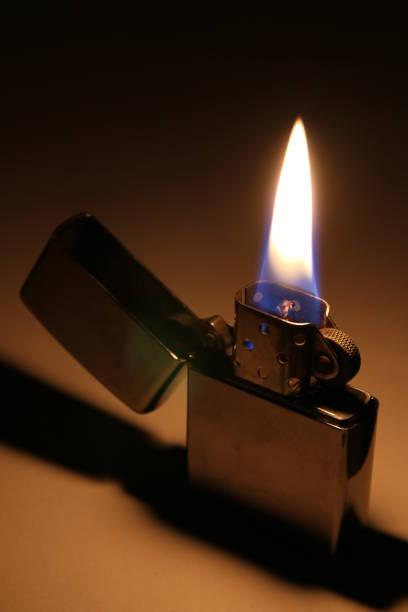Fire: (249, 117, 331, 317)
